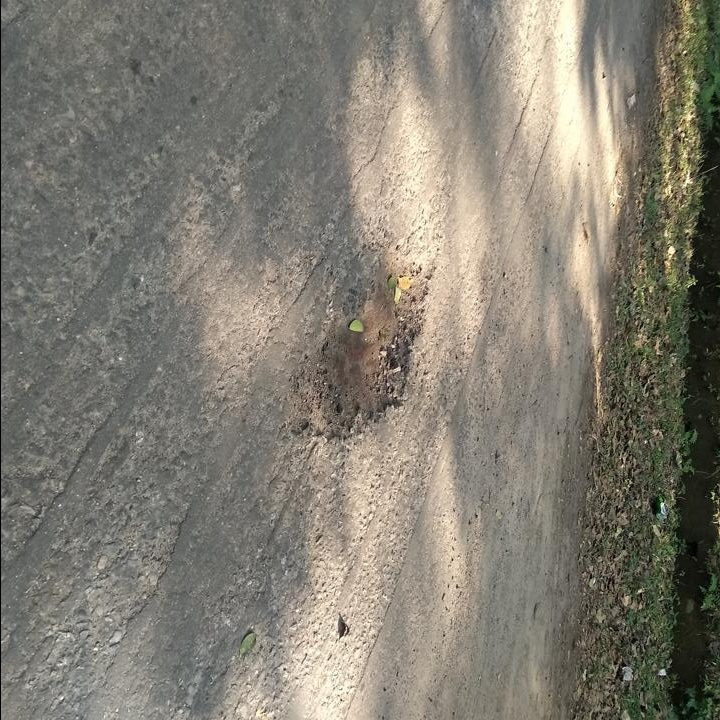pothole: (282, 241, 441, 448)
